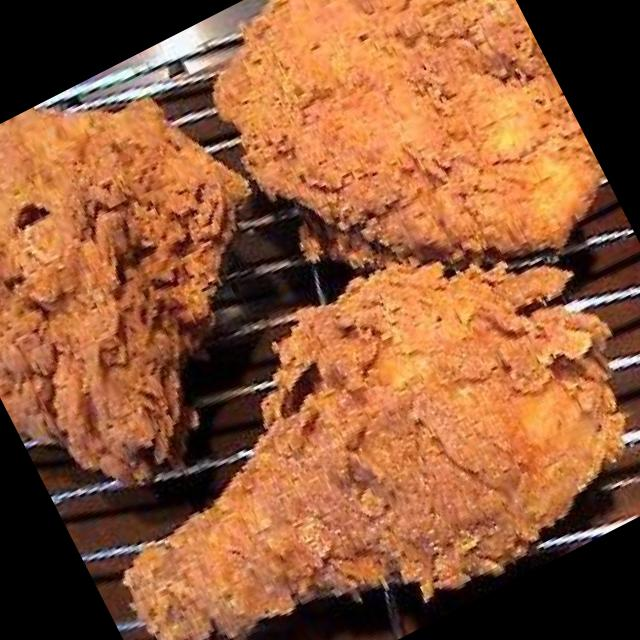Fried Chicken: (123, 261, 629, 640), (214, 0, 607, 273), (0, 99, 235, 487)
